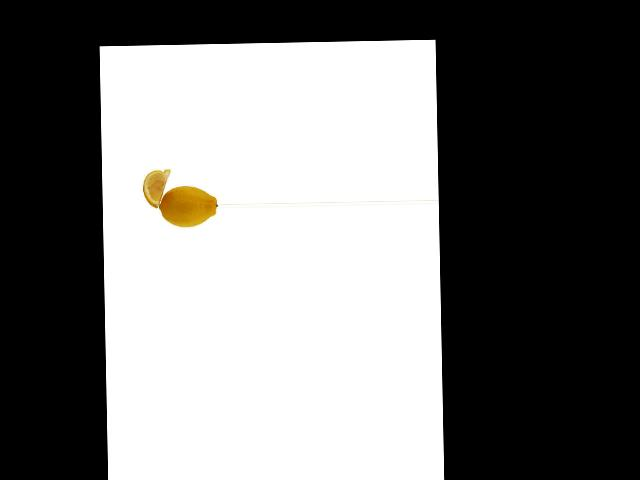lemon: (156, 182, 219, 229)
